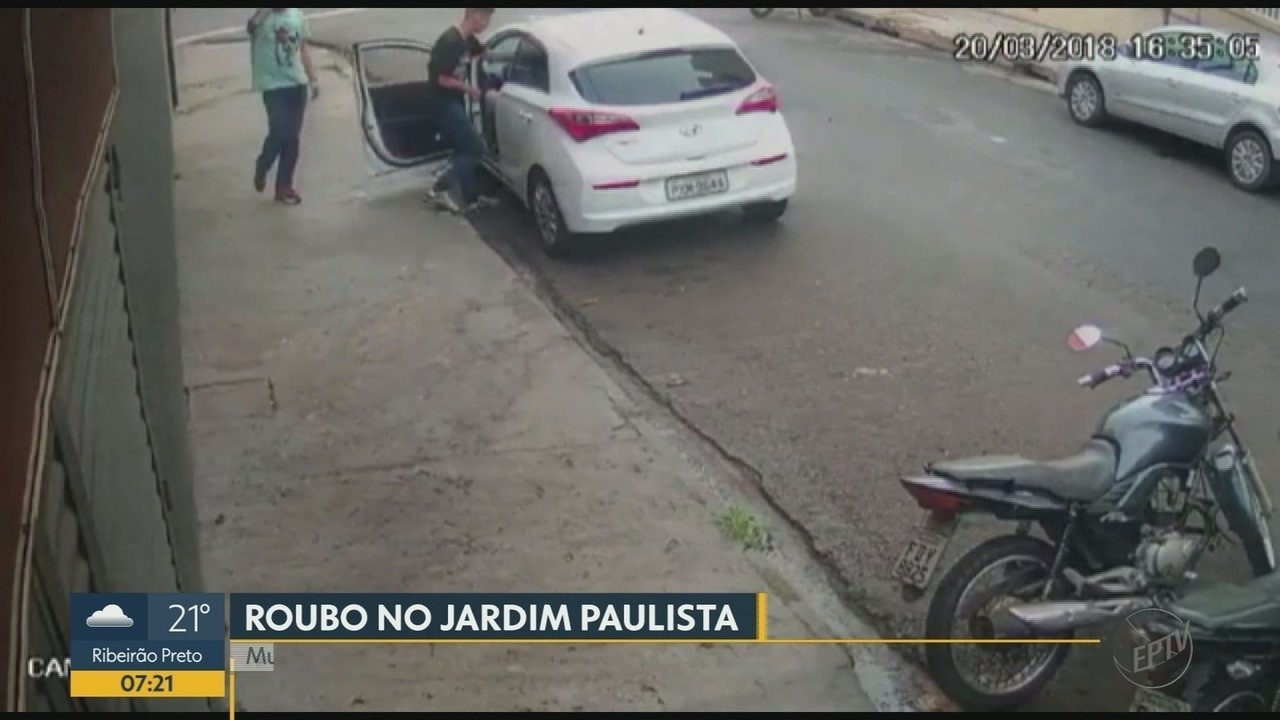Humano: (238, 1, 325, 205), (431, 1, 506, 225)
